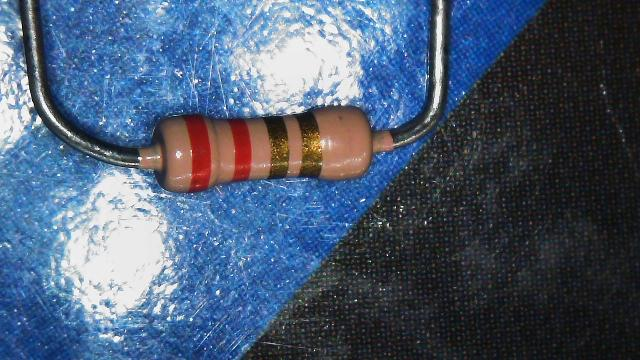gold: (298, 112, 322, 177), (265, 116, 288, 178)
orange: (184, 114, 210, 191), (230, 119, 250, 181)
resistor: (126, 75, 390, 209)
